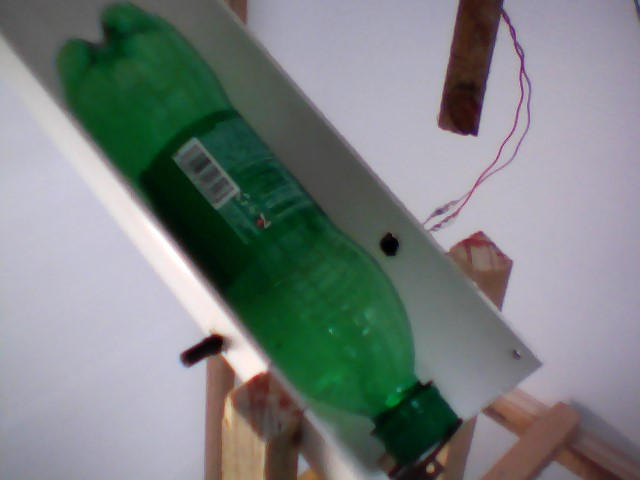plastico: (54, 1, 463, 463)
